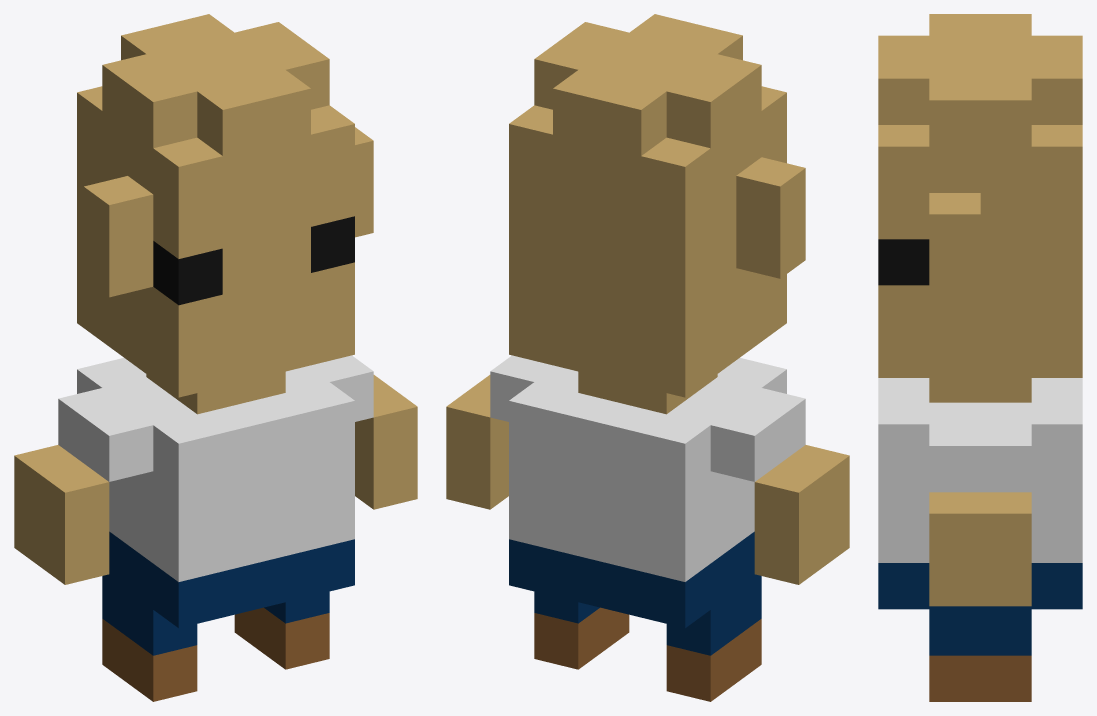
The model's file is titi-0.obj.
The picture shows the model from 3 angles, left to right: view 1: azimuth 30°, elevation 25°; view 2: azimuth 150°, elevation 25°; view 3: azimuth 270°, elevation 25°; orthographic projection.
Size of the model in its own units: 0.8 by 1.3 by 0.4.
1 material, 1 textured.
